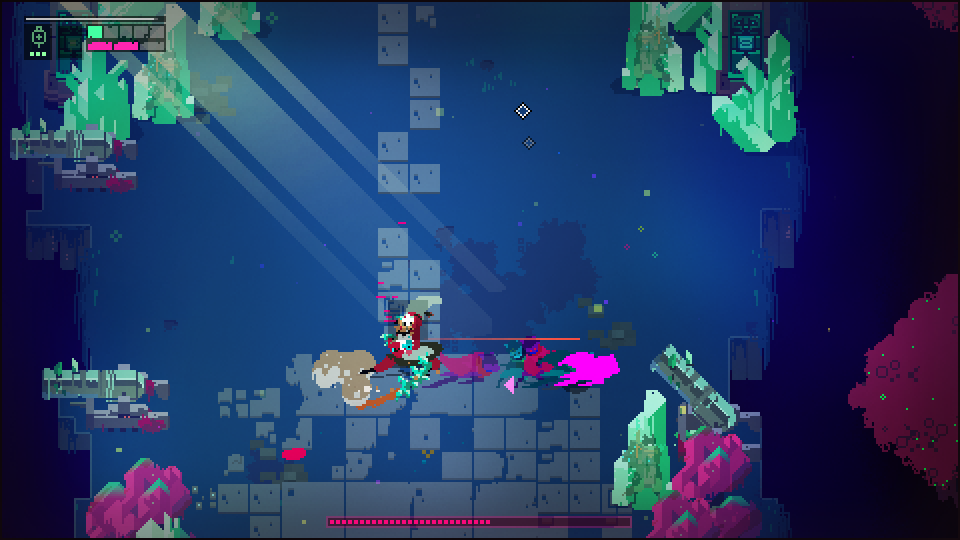hanged_man: (360, 289, 444, 405)
player: (551, 352, 623, 392)
